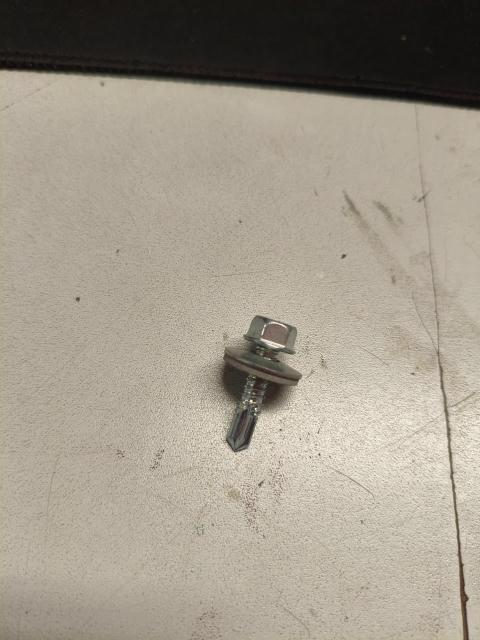Metal: (213, 308, 302, 457)
